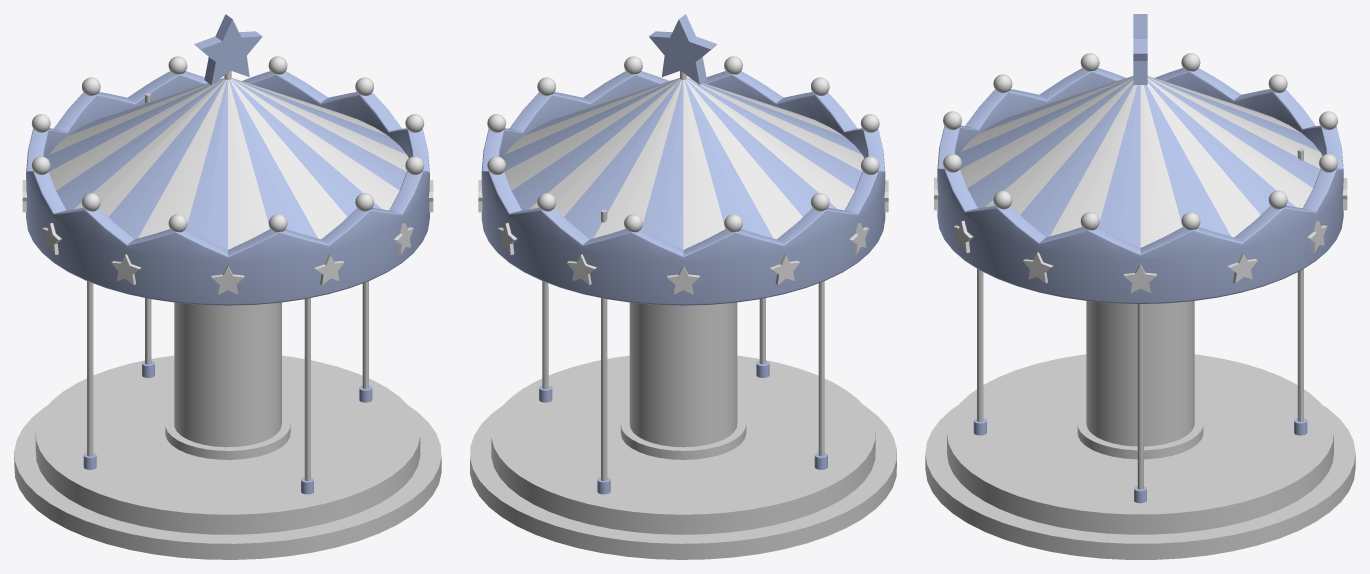
The model's file is Carnival.glb.
The picture shows the model from 3 angles, left to right: view 1: azimuth 30°, elevation 25°; view 2: azimuth 150°, elevation 25°; view 3: azimuth 270°, elevation 25°; orthographic projection.
Parts seen in each view (by area): view 1: Carnival02, Carnival01; view 2: Carnival02, Carnival01; view 3: Carnival02, Carnival01.
Boxes of the visible parts, x1,y1,x2,y2 form: Carnival02: [22, 14, 433, 494]; Carnival01: [14, 93, 441, 559]; Carnival02: [478, 14, 888, 494]; Carnival01: [470, 209, 896, 559]; Carnival02: [934, 14, 1347, 503]; Carnival01: [925, 148, 1355, 559].
Size of the model in its own units: 1.8 by 2.13 by 1.8.
